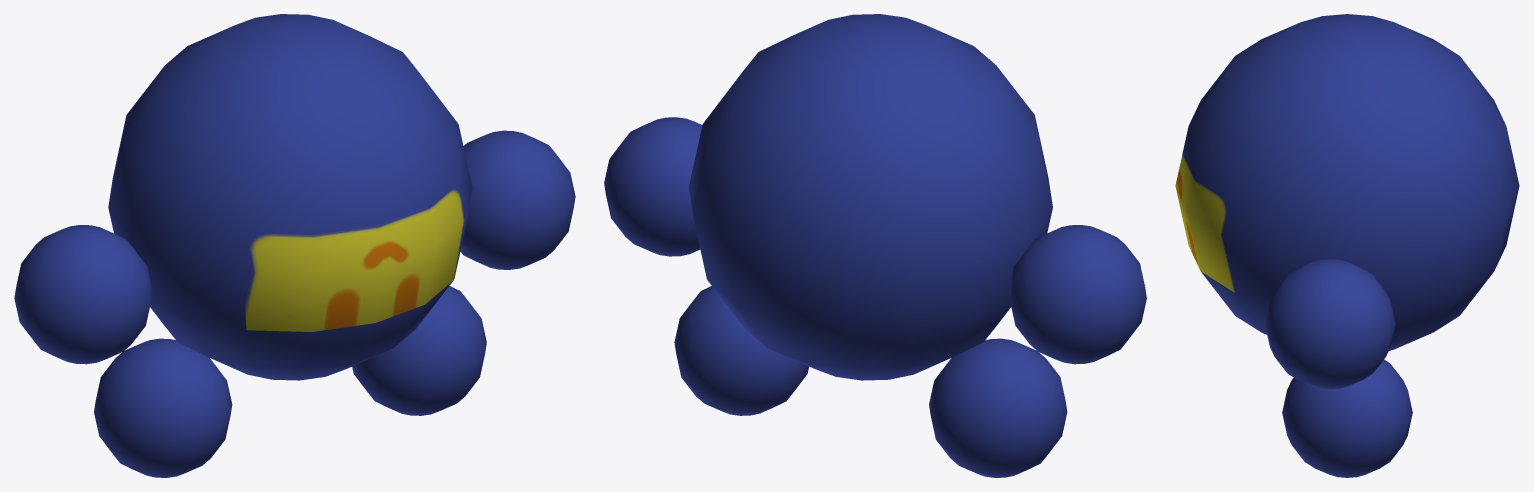
Rendered from bomb64.obj.
The picture shows the model from 3 angles, left to right: view 1: azimuth 30°, elevation 25°; view 2: azimuth 150°, elevation 25°; view 3: azimuth 270°, elevation 25°; orthographic projection. The views are drawn at different scales.
Parts seen in each view (by area): view 1: Esfera_UV; view 2: Esfera_UV; view 3: Esfera_UV.
Boxes of the visible parts, x1=… form: Esfera_UV: x1=14, y1=14, x2=575, y2=477; Esfera_UV: x1=604, y1=14, x2=1146, y2=477; Esfera_UV: x1=1175, y1=14, x2=1519, y2=477.
Size of the model in its own units: 3.36 by 2.46 by 2.
Materials: 1 (1 with a texture image).
